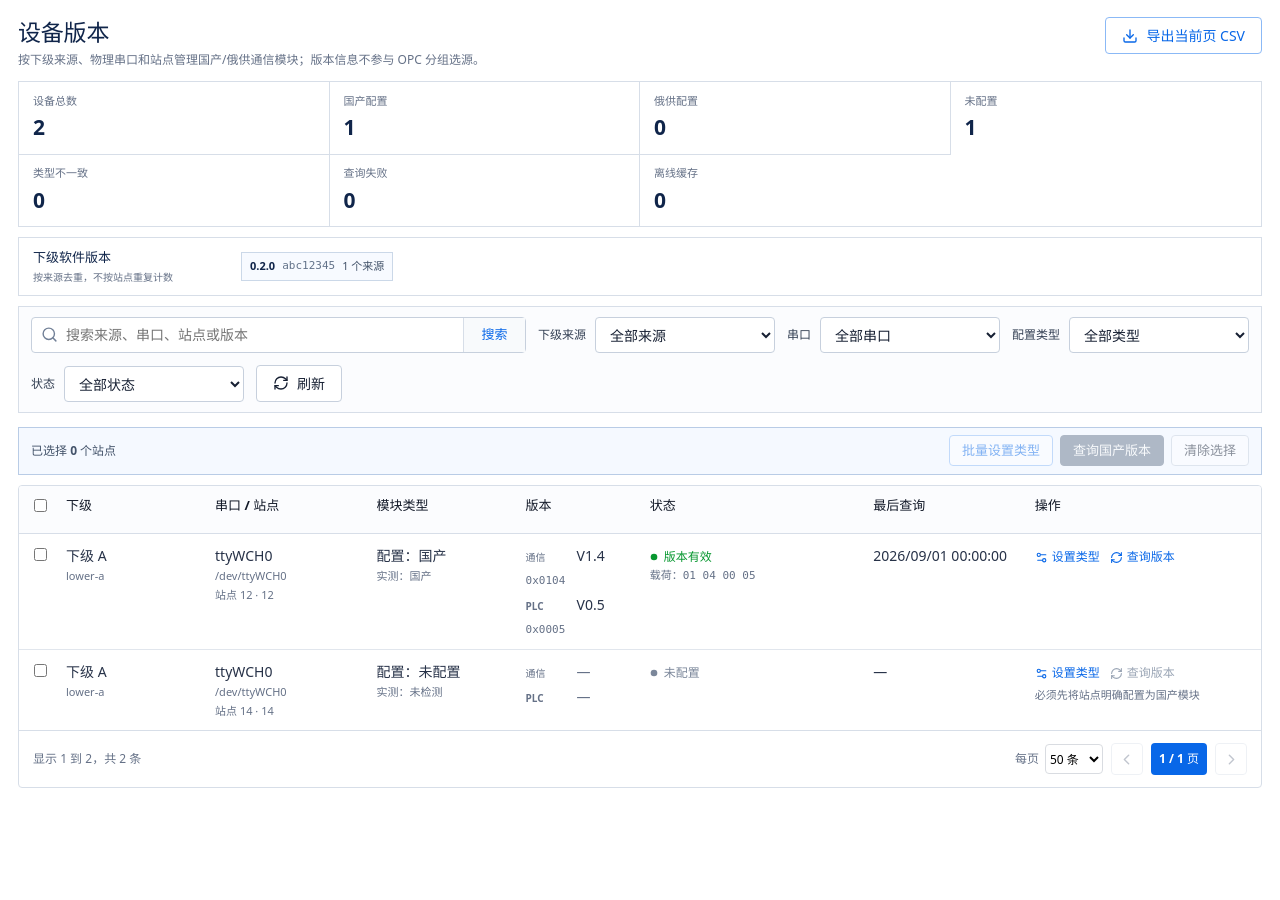
device version inventory › does not claim version success when the response omits the target station
Click the button "查询版本" in the row of "V1.4" at {"x": 1142, "y": 557}, box [1110,545,1175,569]
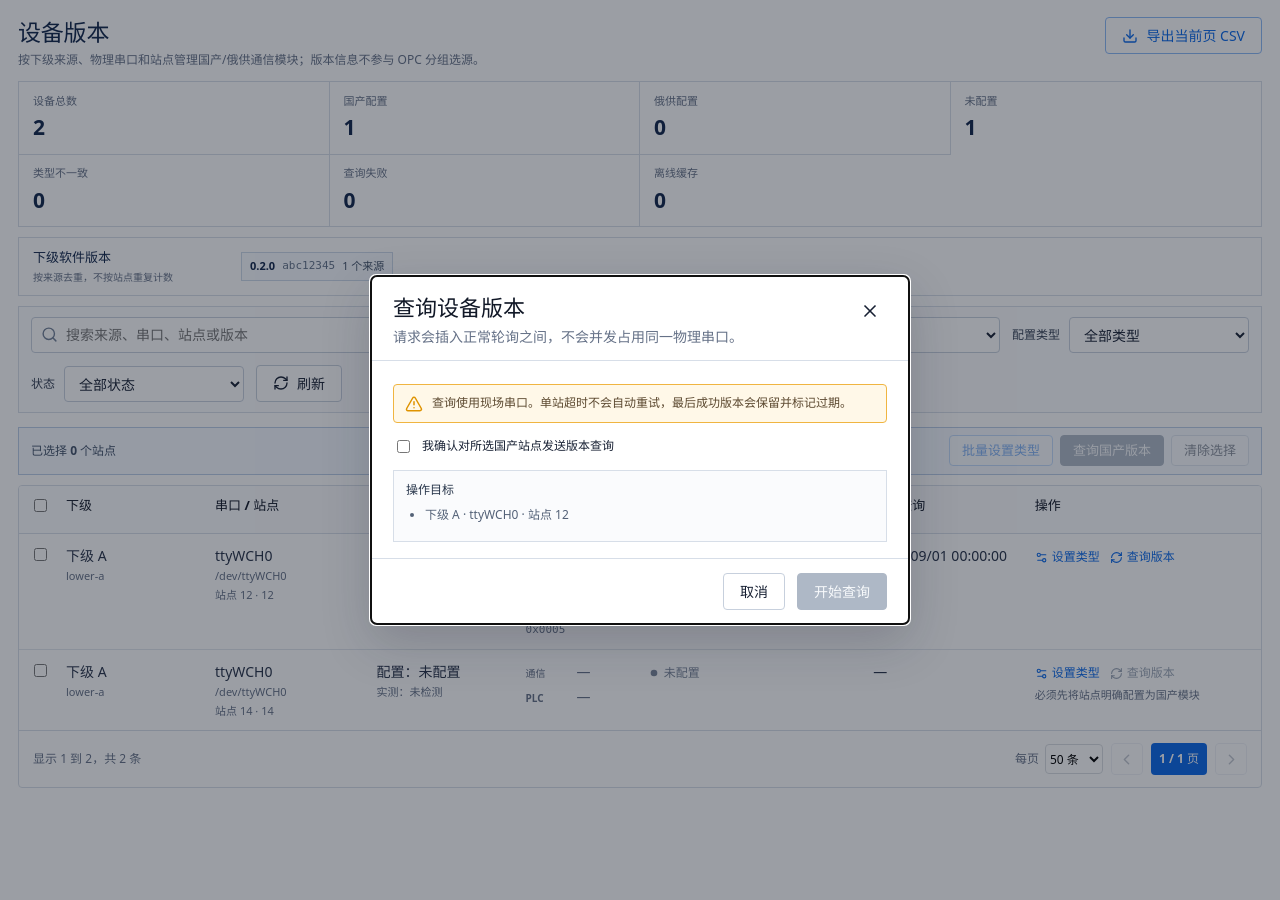
Click the checkbox labelled "我确认对所选国产站点发送版本查询" at {"x": 404, "y": 446}, box [397,440,410,453]
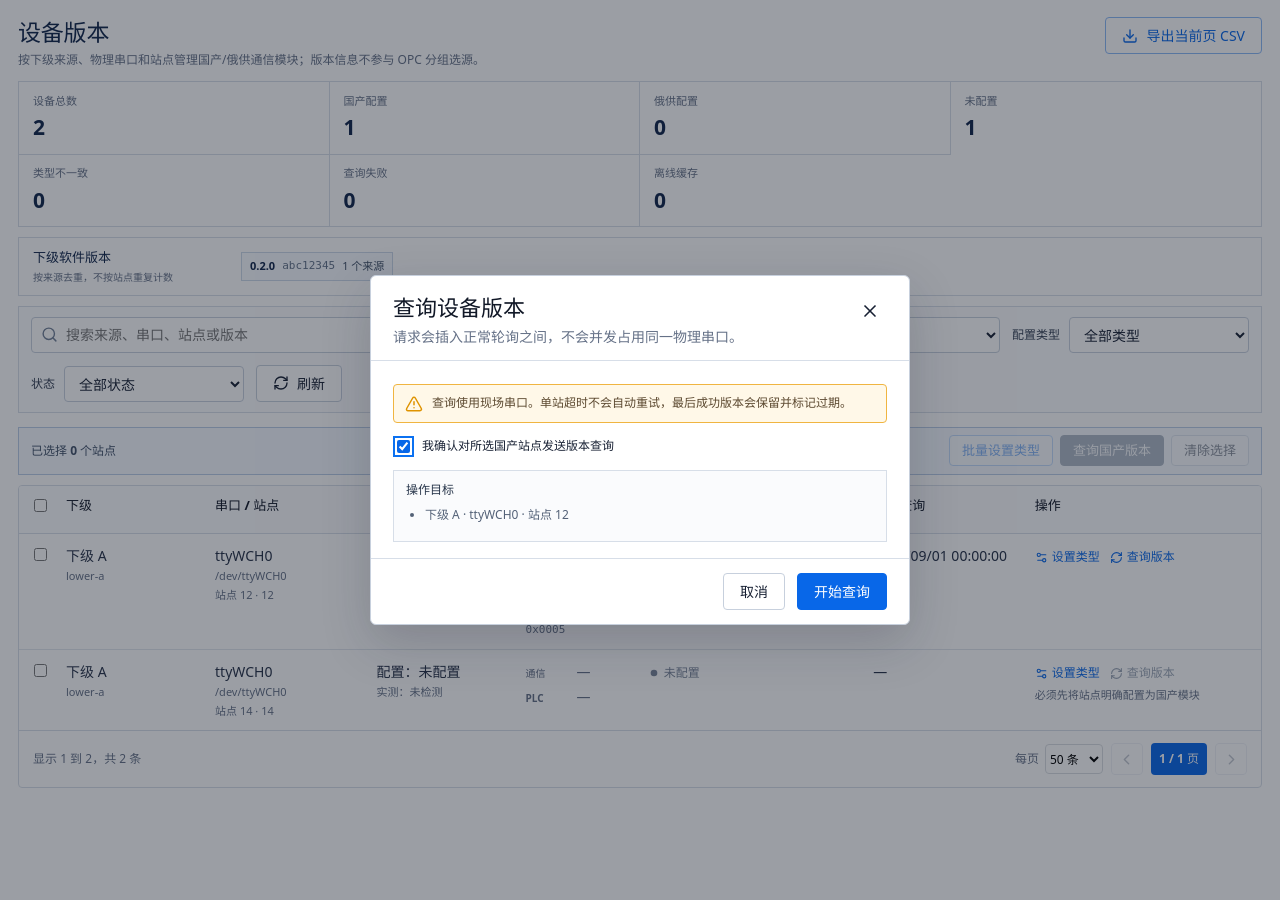
Click the button "开始查询" at {"x": 842, "y": 591}, box [797,573,887,610]
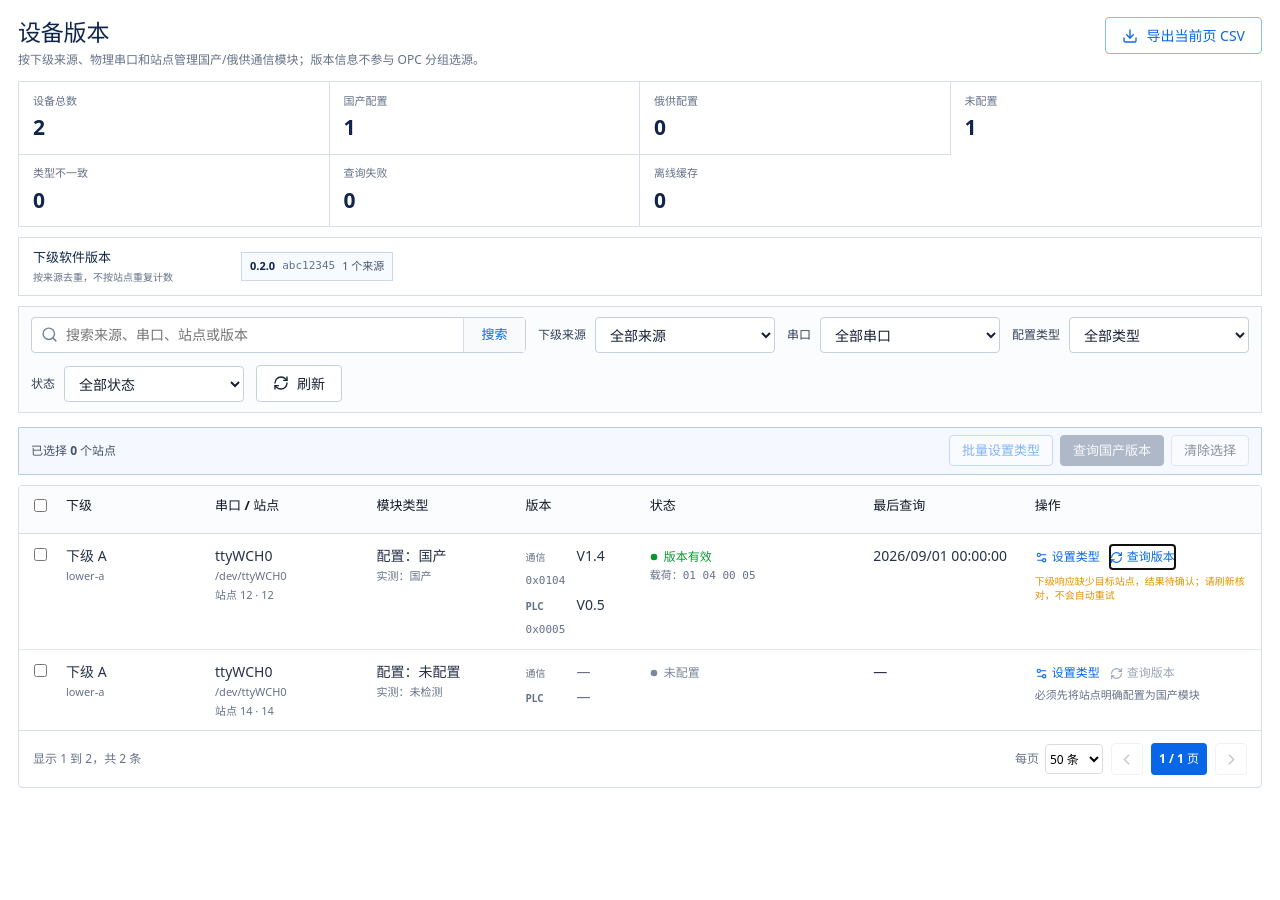
Check: the text "下级响应缺少目标站点，结果待确认；请刷新核对，不会自动重试" is shown, box [1035,575,1252,602]
